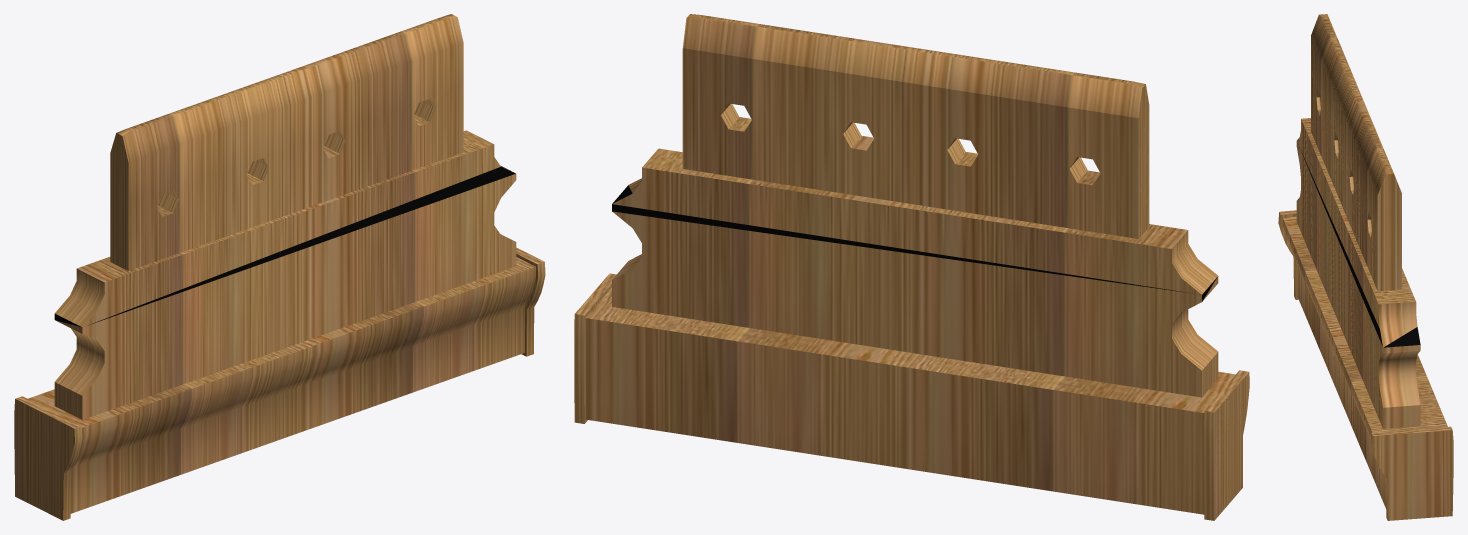
3 views of the same model, side by side, from view 1: azimuth 30°, elevation 25°; view 2: azimuth 150°, elevation 25°; view 3: azimuth 270°, elevation 25° (orthographic). The views are drawn at different scales.
Parts seen in each view (by area): view 1: 对象035, 对象, 对象041; view 2: 对象035, 对象, 对象041; view 3: 对象035, 对象, 对象041.
Boxes of the visible parts, left/top/right/bottom form: 对象035: left=14, top=174, right=545, bottom=520; 对象: left=54, top=14, right=511, bottom=327; 对象041: left=54, top=166, right=515, bottom=327; 对象035: left=574, top=211, right=1249, bottom=520; 对象: left=612, top=14, right=1217, bottom=294; 对象041: left=612, top=185, right=1217, bottom=301; 对象035: left=1278, top=141, right=1453, bottom=520; 对象: left=1297, top=14, right=1417, bottom=347; 对象041: left=1298, top=144, right=1420, bottom=347.
Bounding box in the file's own units: 103 × 65.24 × 32.92.
Materials: 3 (2 with a texture image).
